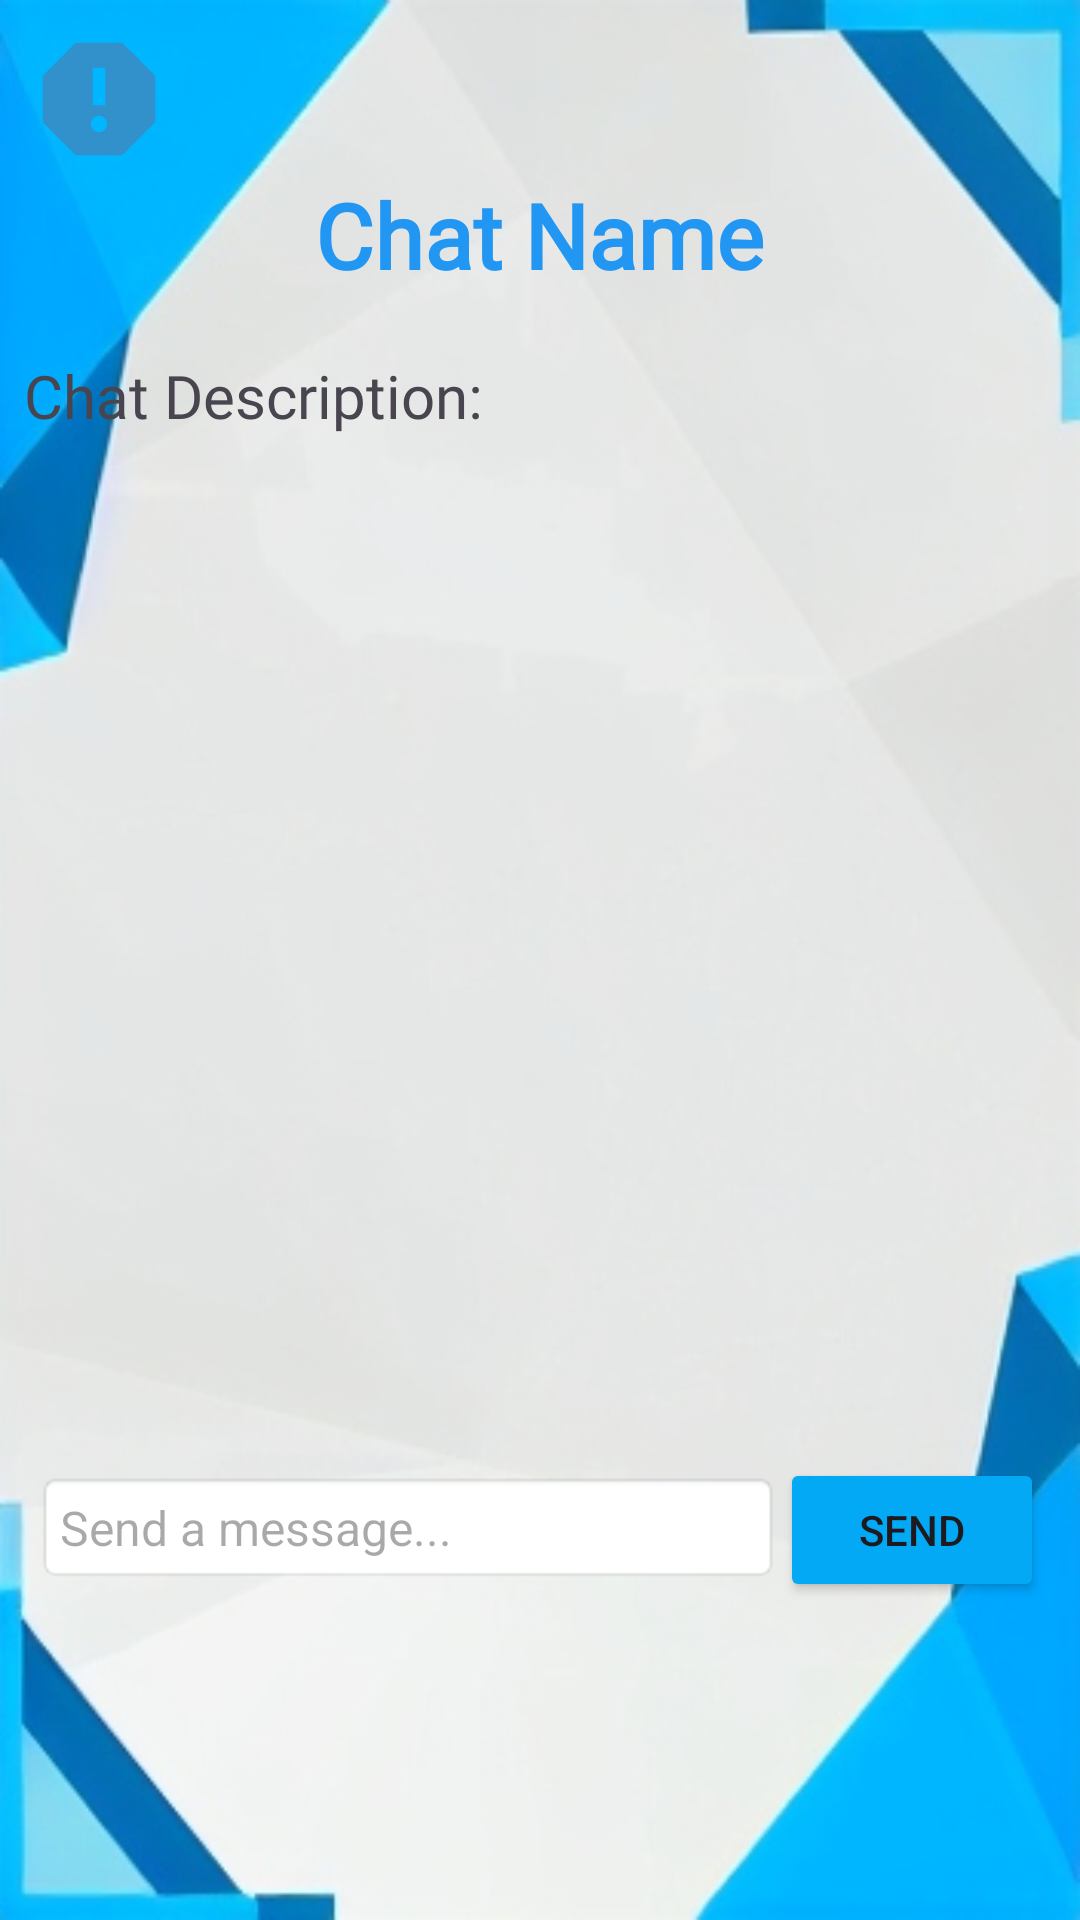

Screen size 1080px×1920px. Icon name, then its center in pixels as (x,y):
report: (99,99)
